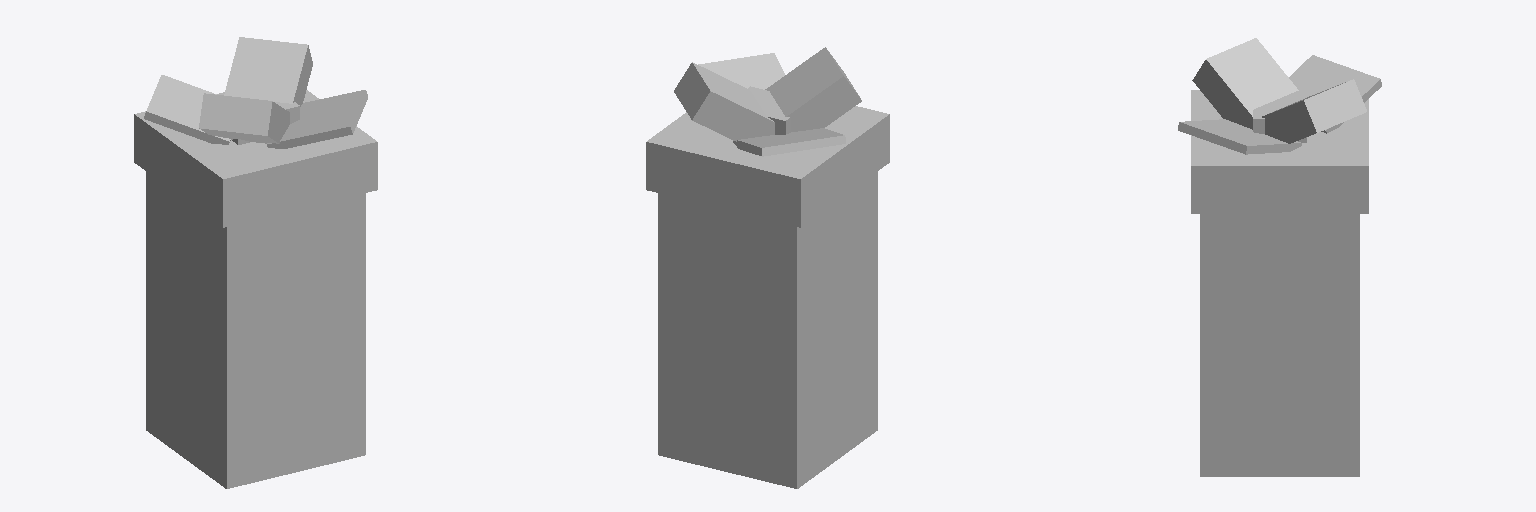
File: present.obj
The picture shows the model from 3 angles: view 1: azimuth 30°, elevation 25°; view 2: azimuth 150°, elevation 25°; view 3: azimuth 270°, elevation 25°; orthographic projection.
Visible parts, largest first — view 1: cube; view 2: cube; view 3: cube.
Boxes of the visible parts, box(x1,y1,x2,y2) form: cube: box(134, 37, 377, 488); cube: box(646, 47, 889, 488); cube: box(1178, 38, 1381, 476).
Bounding box in the file's own units: 1.54 × 2.89 × 1.44.